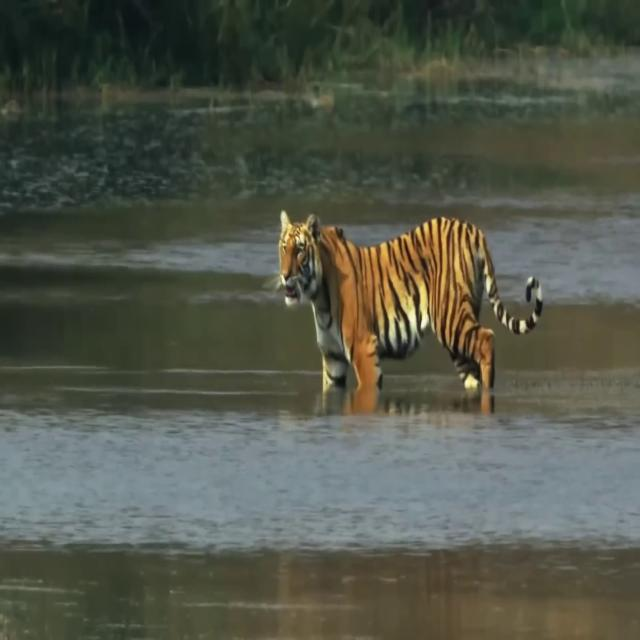tiger: (280, 209, 543, 389)
